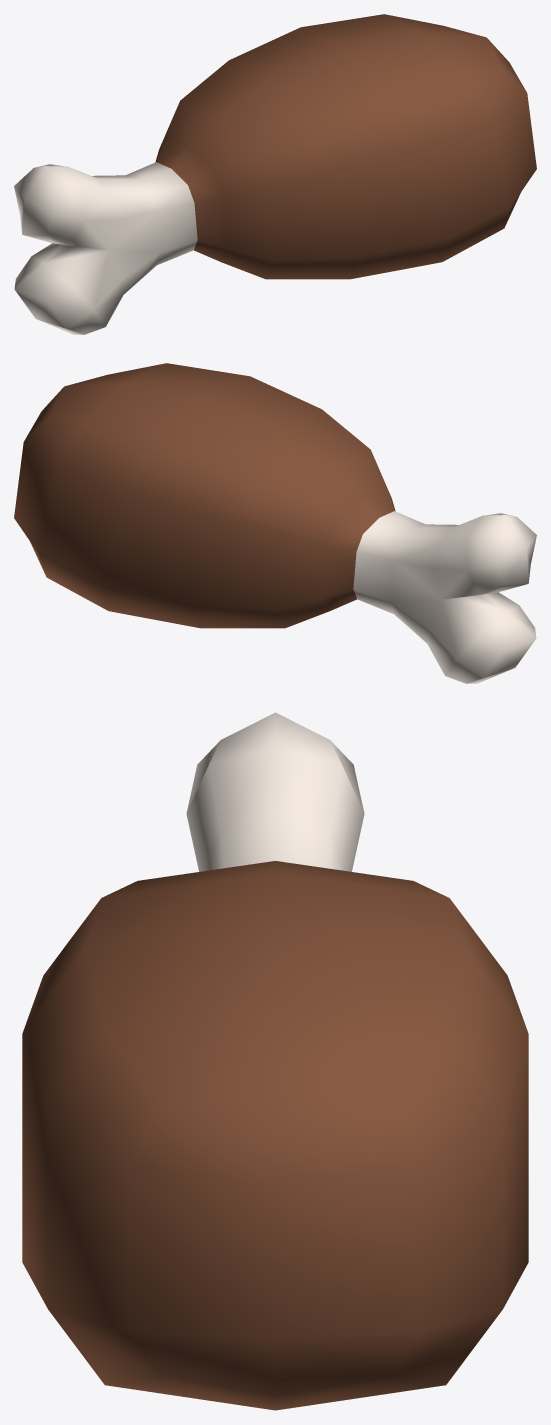
The model's file is ChickenLeg.fbx.
3 views of the same model, one above another, from view 1: azimuth 30°, elevation 25°; view 2: azimuth 150°, elevation 25°; view 3: azimuth 270°, elevation 25° (orthographic). The views are drawn at different scales.
Parts seen in each view (by area): view 1: ChickenLeg; view 2: ChickenLeg; view 3: ChickenLeg.
Boxes of the visible parts, left/top/right/bottom form: ChickenLeg: left=14, top=14, right=536, bottom=334; ChickenLeg: left=14, top=363, right=536, bottom=683; ChickenLeg: left=22, top=712, right=528, bottom=1410.
Size of the model in its own units: 2.65 by 1.1 by 1.16.
